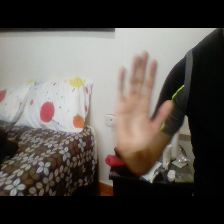left: (106, 44, 177, 161)
